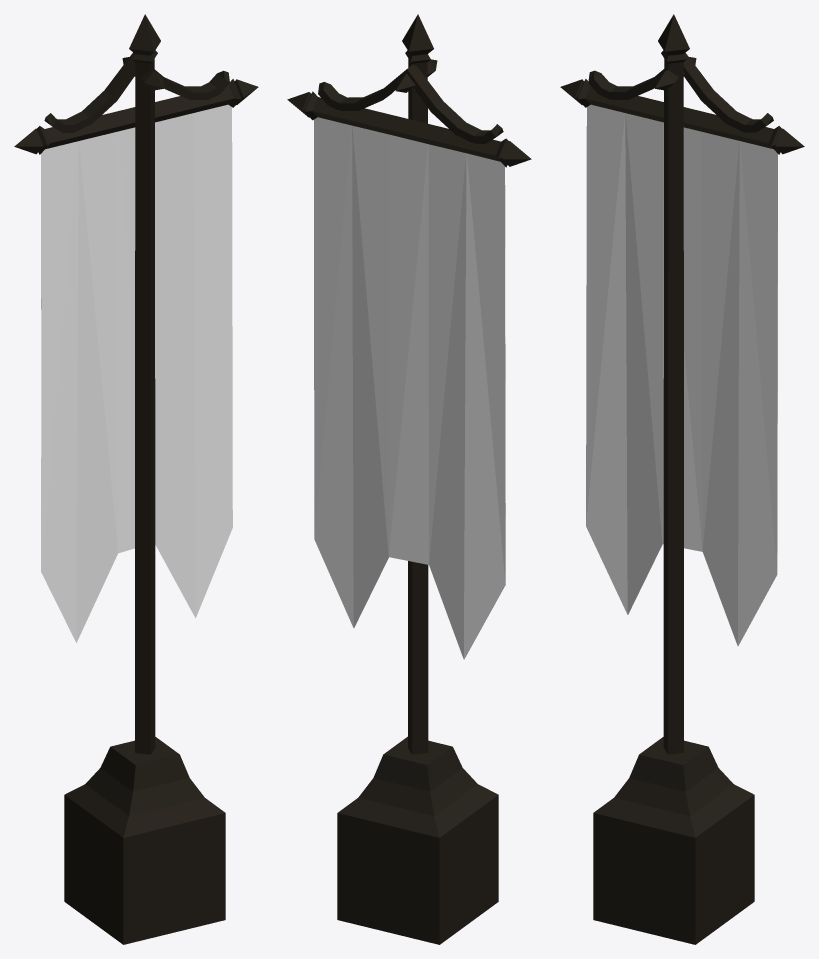
The model's file is Fort_Flag.DAE.
3 renders of one model, left to right at view 1: azimuth 30°, elevation 25°; view 2: azimuth 150°, elevation 25°; view 3: azimuth 330°, elevation 25°, orthographic.
Visible parts, largest first — view 1: Flag; view 2: Flag; view 3: Flag.
Part boxes in pixels (x1,y1,x2,y2): Flag: (14, 14, 258, 944); Flag: (287, 14, 531, 944); Flag: (560, 14, 804, 944).
Size of the model in its own units: 0.6333 by 2.22 by 0.2646.
